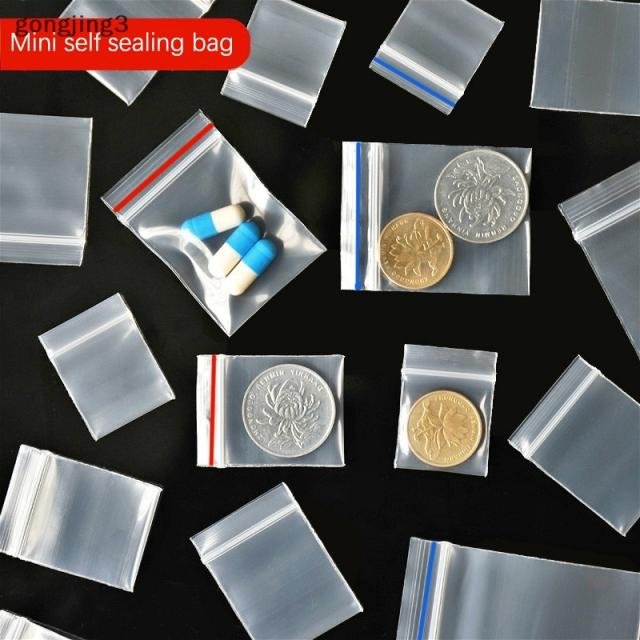Single-layer Plastic: (102, 111, 325, 335), (191, 484, 362, 640), (397, 538, 640, 640), (0, 445, 161, 591), (509, 356, 640, 534), (341, 141, 477, 291), (39, 294, 175, 439), (196, 354, 345, 467), (221, 0, 346, 126), (559, 162, 640, 356), (370, 0, 504, 114), (0, 114, 92, 266), (395, 345, 498, 476), (530, 0, 640, 116), (420, 212, 529, 294)
